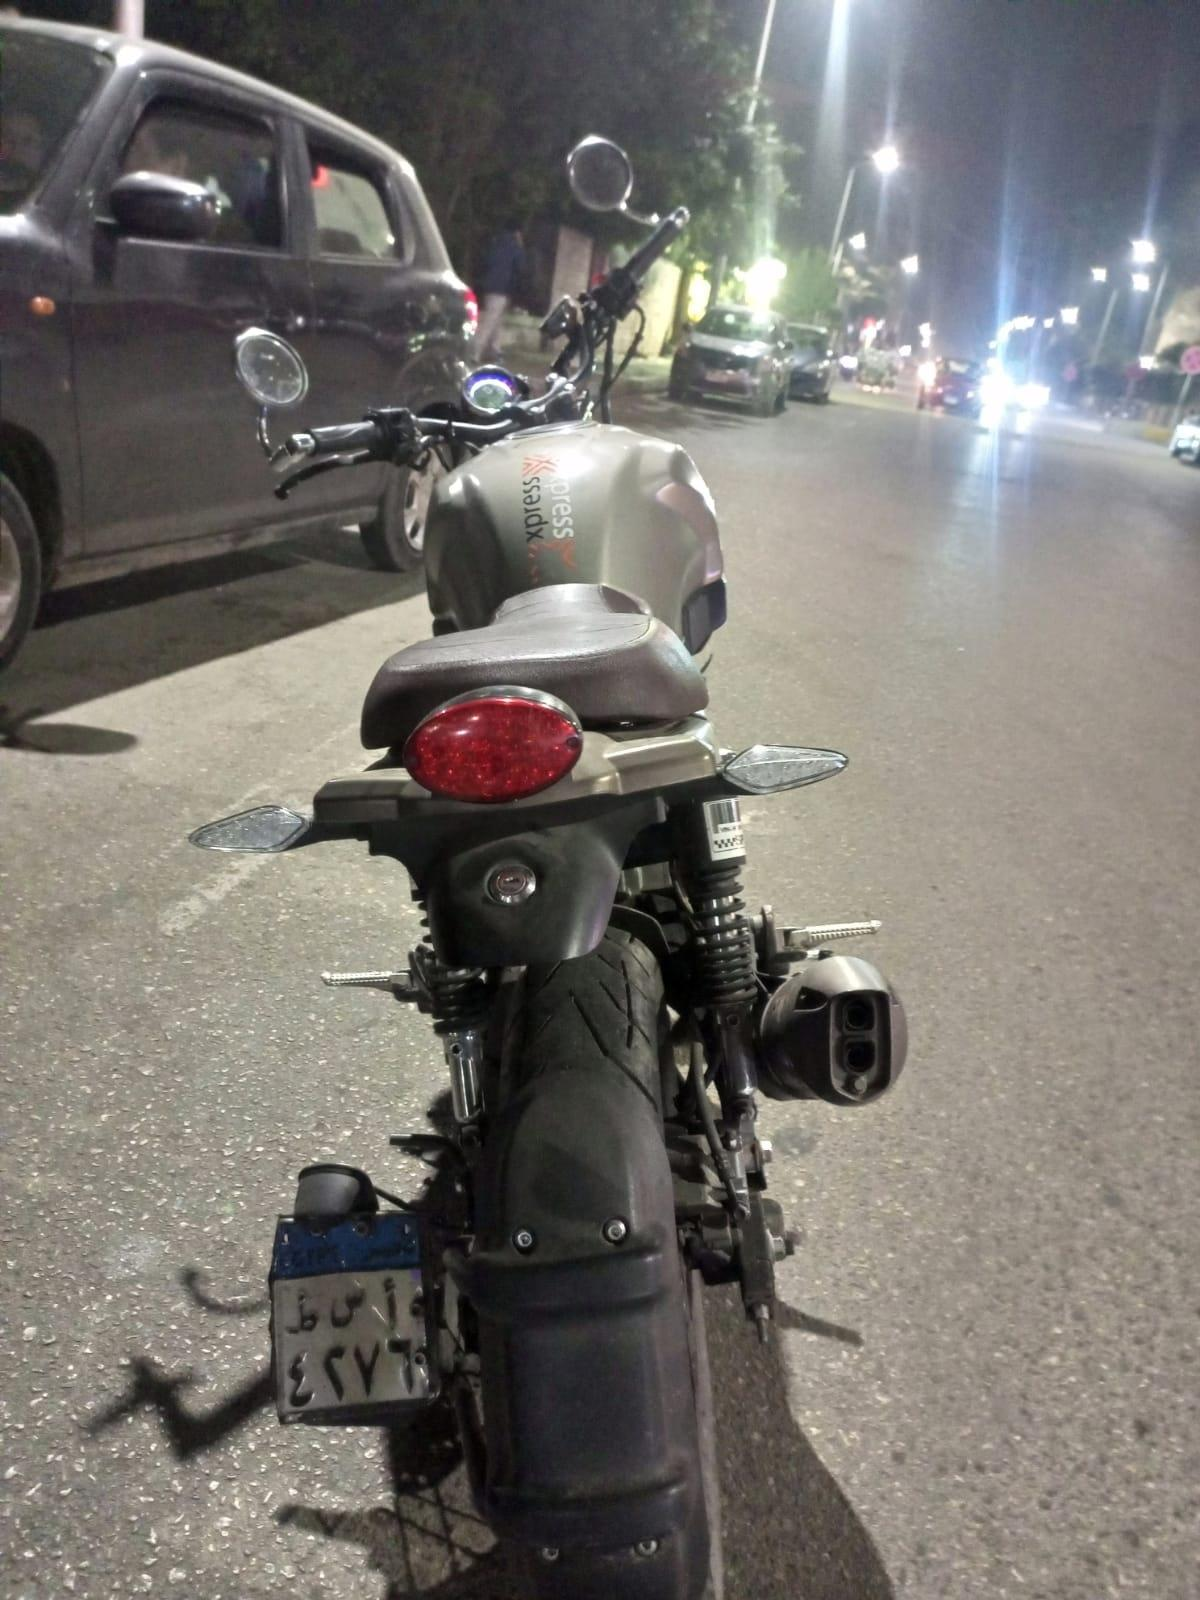License Plate: (269, 1208, 446, 1426)
